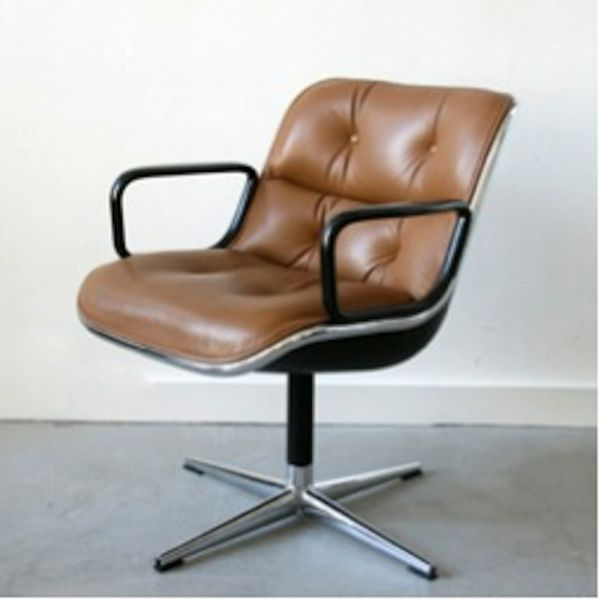chairs: (77, 64, 521, 580)
